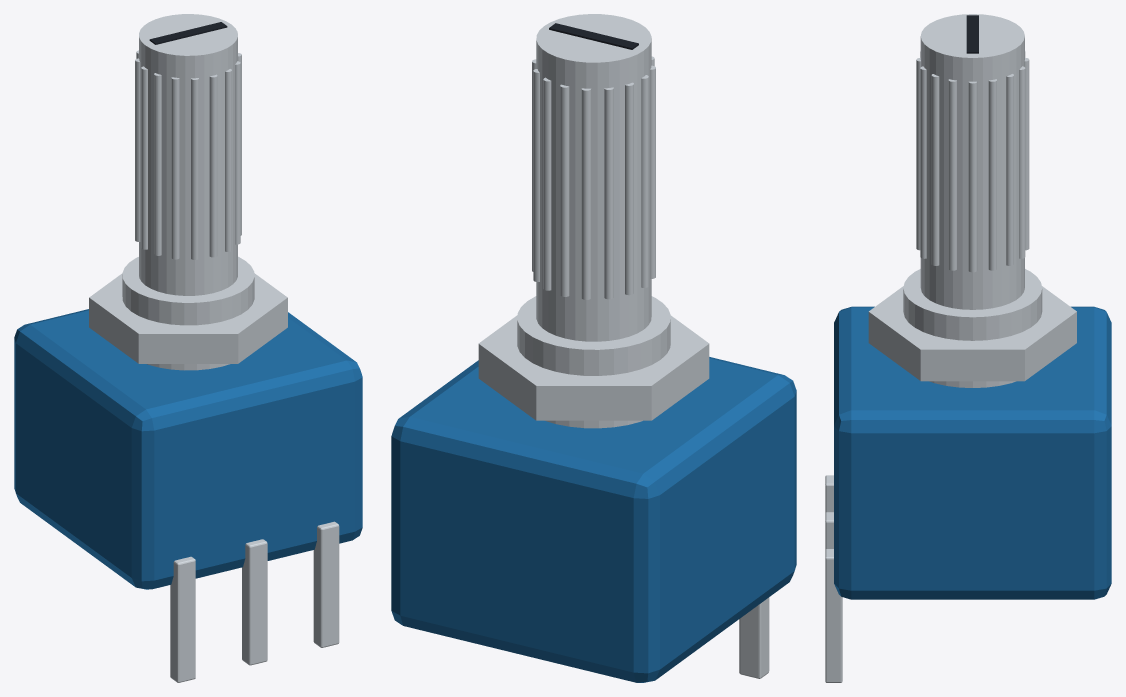
File: potentiometer.glb
The picture shows the model from 3 angles, left to right: view 1: azimuth 30°, elevation 25°; view 2: azimuth 150°, elevation 25°; view 3: azimuth 270°, elevation 25°; orthographic projection. The views are drawn at different scales.
Parts seen in each view (by area): view 1: Static body • blue, Static body • silver, Static body • black; view 2: Static body • blue, Static body • silver, Static body • black; view 3: Static body • blue, Static body • silver, Static body • black.
Boxes of the visible parts, x1,y1,x2,y2 form: Static body • blue: (14,309,362,589); Static body • silver: (89,14,339,682); Static body • black: (149,22,227,44); Static body • blue: (391,357,796,682); Static body • silver: (478,14,769,678); Static body • black: (549,23,638,49); Static body • blue: (834,306,1111,599); Static body • silver: (825,14,1076,682); Static body • black: (966,15,978,53).
Bounding box in the file's own units: 16 × 38.65 × 16.5.
